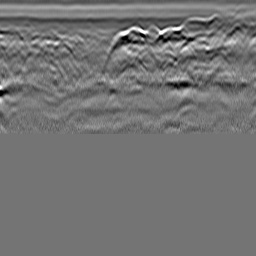cavity: (110, 24, 146, 46)
